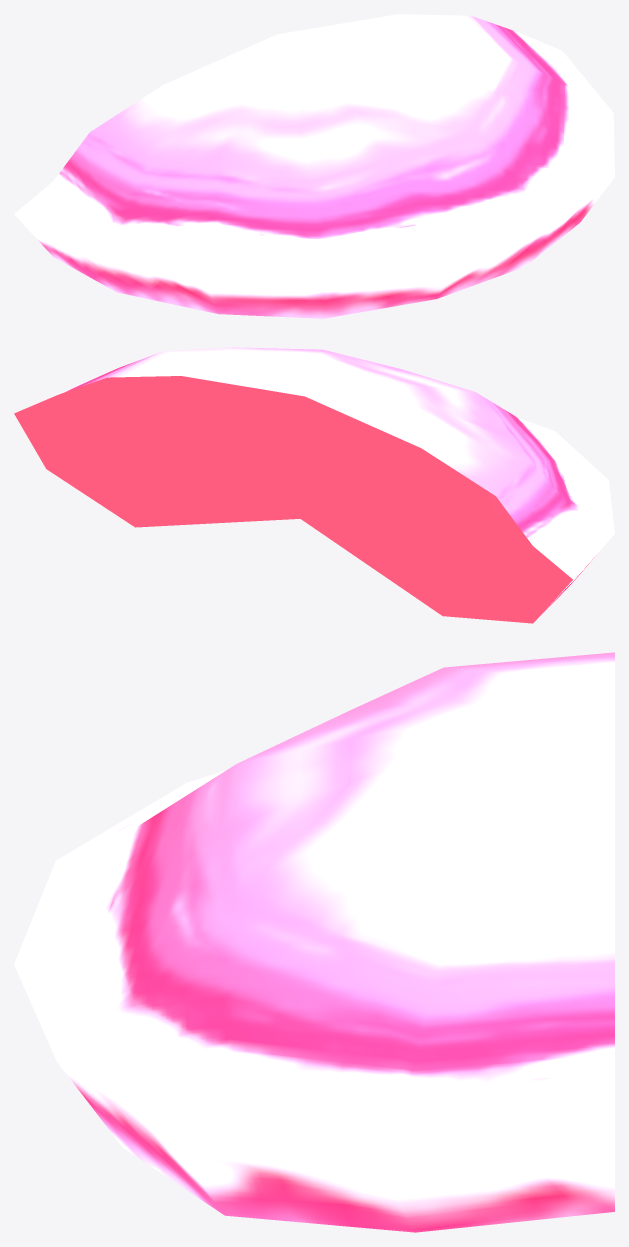
File: SM_ENV_mushrooms_ancient_03_03.fbx
3 views of the same model, one above another, from view 1: azimuth 30°, elevation 25°; view 2: azimuth 150°, elevation 25°; view 3: azimuth 270°, elevation 25° (orthographic). The views are drawn at different scales.
Visible parts, largest first — view 1: SM_ENV_mushrooms_ancient_03_03_LOD0; view 2: SM_ENV_mushrooms_ancient_03_03_LOD0; view 3: SM_ENV_mushrooms_ancient_03_03_LOD0.
Part boxes in pixels (box(x1,y1,x2,y2)): SM_ENV_mushrooms_ancient_03_03_LOD0: box(14, 14, 614, 318); SM_ENV_mushrooms_ancient_03_03_LOD0: box(14, 347, 614, 623); SM_ENV_mushrooms_ancient_03_03_LOD0: box(14, 652, 614, 1232).
Bounding box in the file's own units: 29.23 × 9.29 × 14.68.
